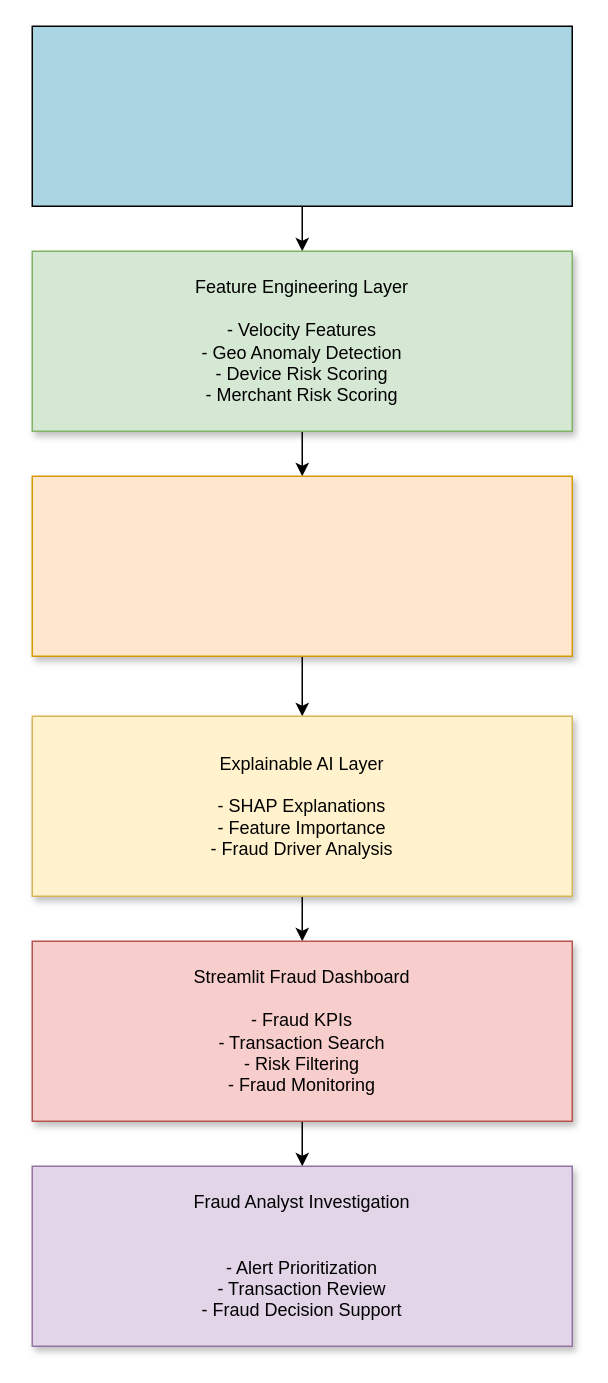
Some shapes in this 608 by 1383 pixel diagram are drawn without their labels. The shapes that lost their labels are listed below. From the top down, each one's centre as x and y in pixels, then its label:
At [301,115]: "Transaction Data Sources - Customer Data - Merchant Data - Transaction Streams".
At [303,568]: "Machine Learning Models - Logistic Regression - Random Forest - XGBoost".
